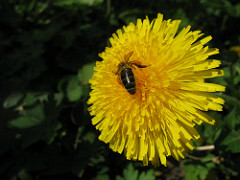dandelion yellow: (85, 12, 226, 169)
